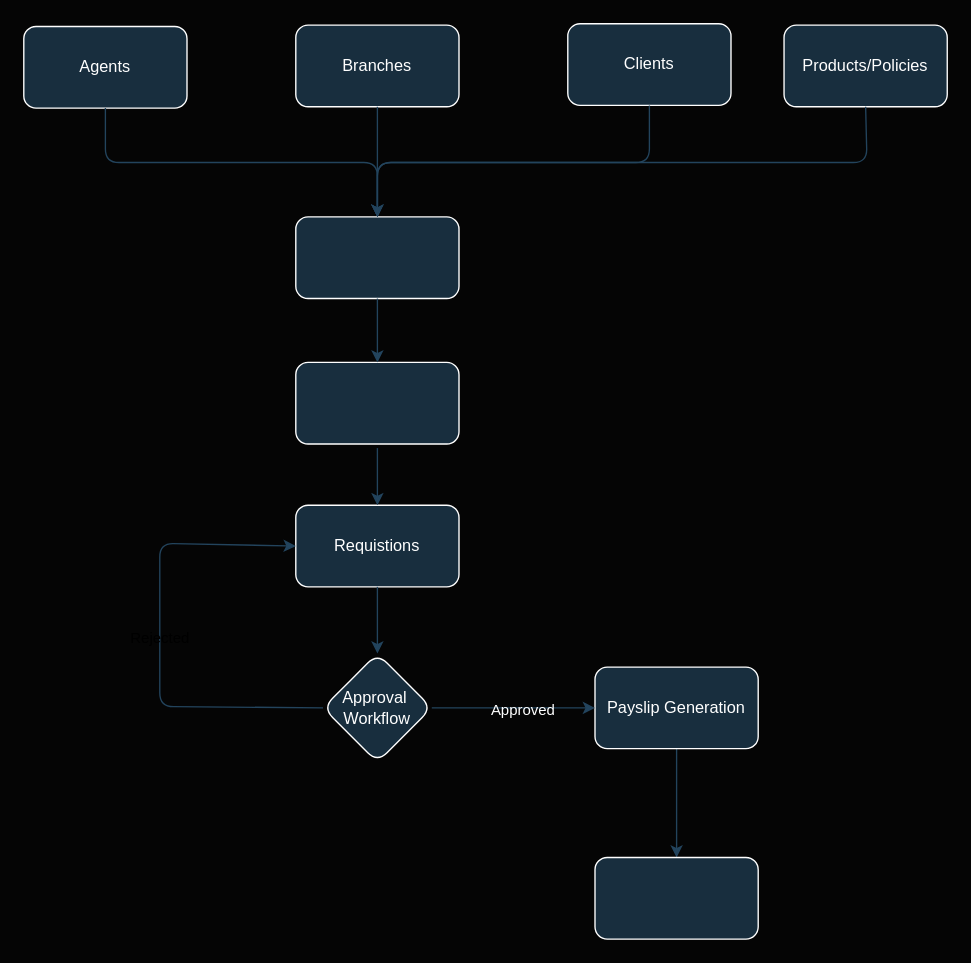
The diagram is 971 pixels wide and 963 high, and some of its shapes have lost their labels. Each missing label, with the box of its shape:
Agent Notifications: (594, 856, 758, 939)
Commission Reporting: (294, 361, 459, 444)
Preminums: (294, 216, 459, 299)
